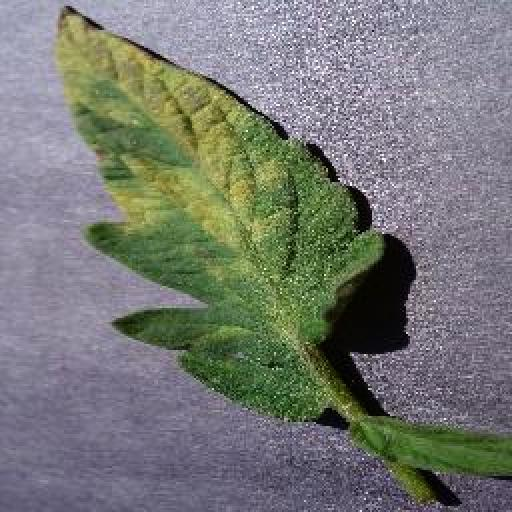disease_tomato: (59, 8, 387, 420)
